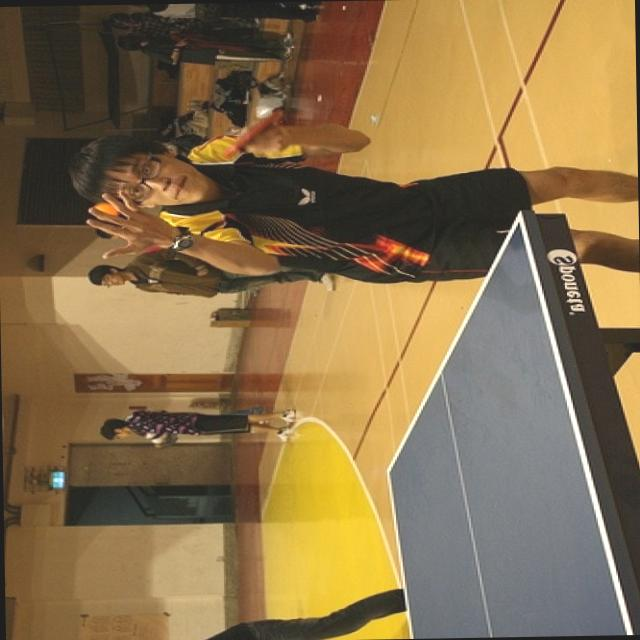TT Racket: (212, 92, 295, 171)
TT Table: (358, 206, 634, 640)
